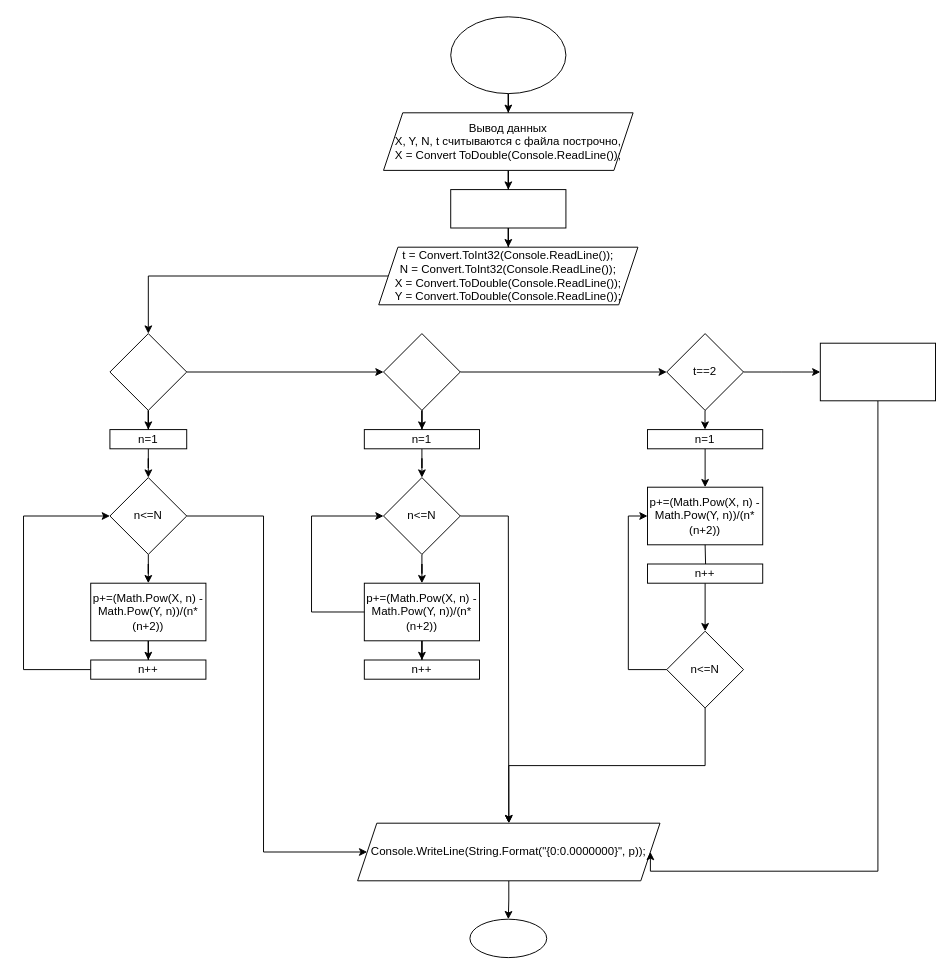
This 952x974 diagram has some shape labels left out. The shapes that lost their labels are listed below. From the top down, each one's centre as x and y in pixels, then its label:
point (508, 55): Начало
point (508, 208): double t, N; double X, Y, p;
point (148, 371): t==0
point (421, 371): t==1
point (877, 371): p=0
point (508, 938): Конец
